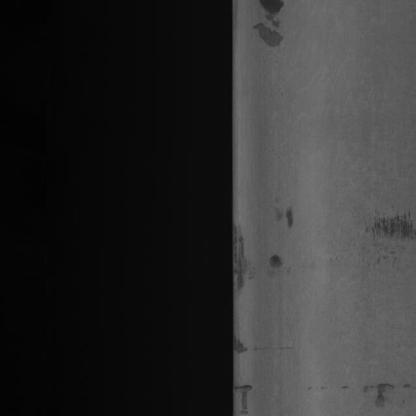oil_spot: (357, 208, 416, 258), (265, 203, 299, 284), (359, 373, 413, 413), (250, 0, 287, 53), (234, 211, 254, 294), (235, 375, 256, 415), (233, 323, 252, 359)
